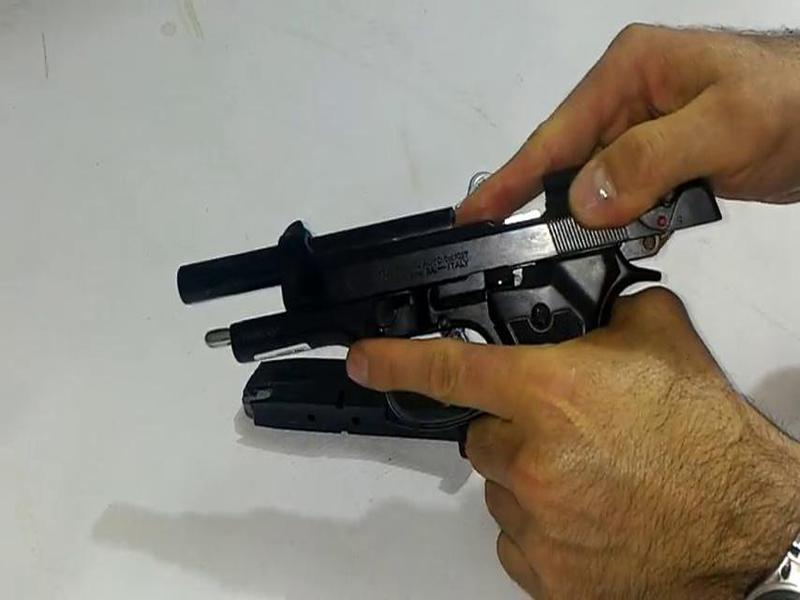Pistola: (174, 146, 699, 501)
